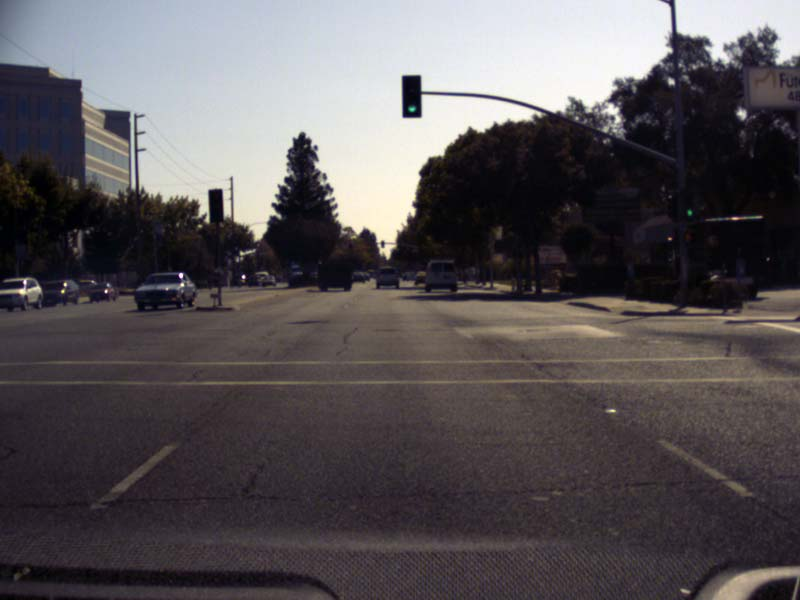Green: (402, 75, 420, 117), (684, 192, 694, 218)
